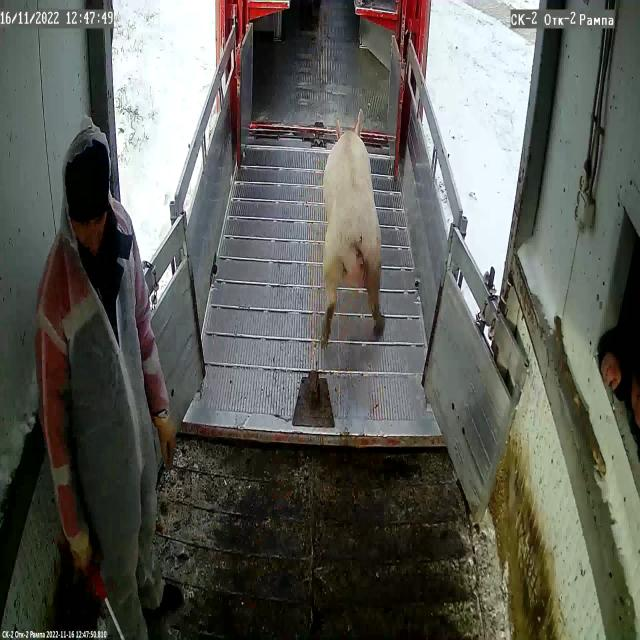pig: (324, 110, 382, 335)
